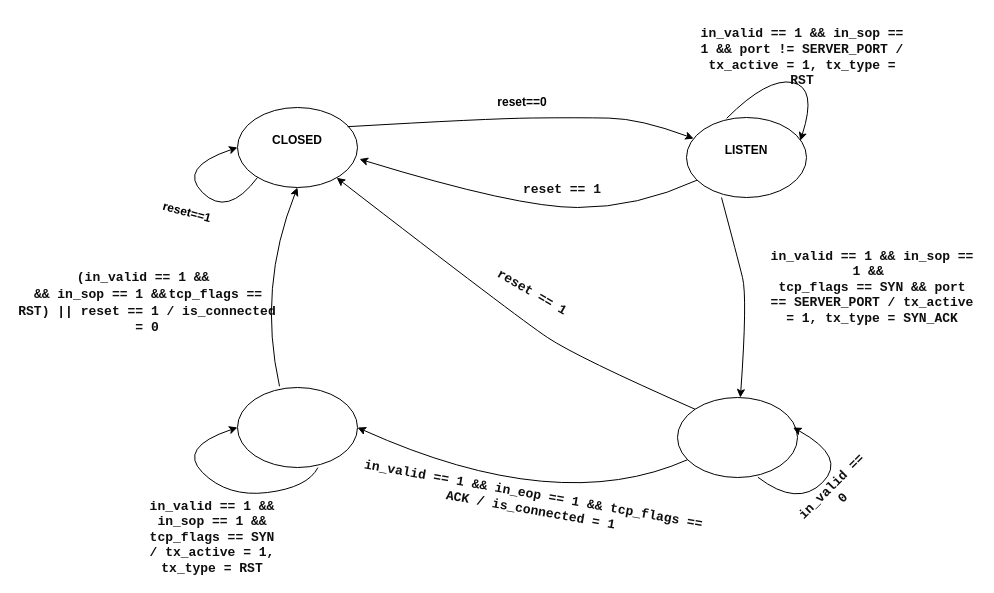
This 994x593 diagram has some shape labels left out. Here are the shapes that lost their labels. From the top down, the centre of each, then its label:
point 297,427: ESTABLISHED
point 737,437: SYN_RCVD
